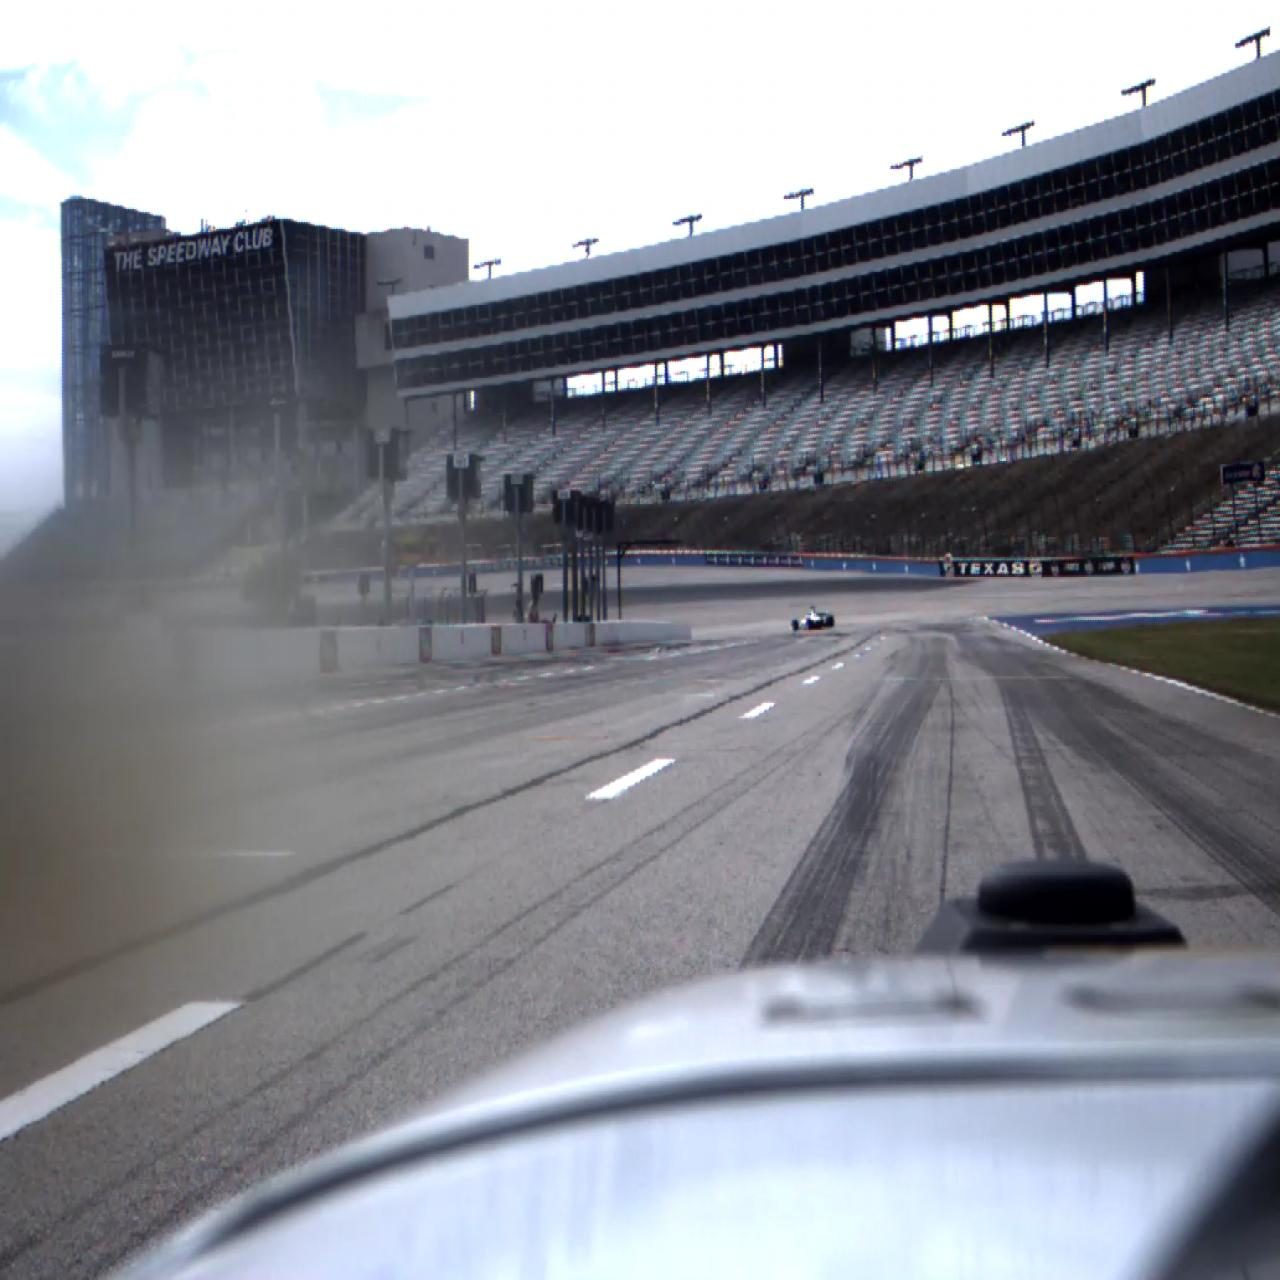AV: (791, 605, 834, 631)
Wheel: (826, 616, 834, 627), (806, 619, 812, 630), (793, 619, 798, 631)
